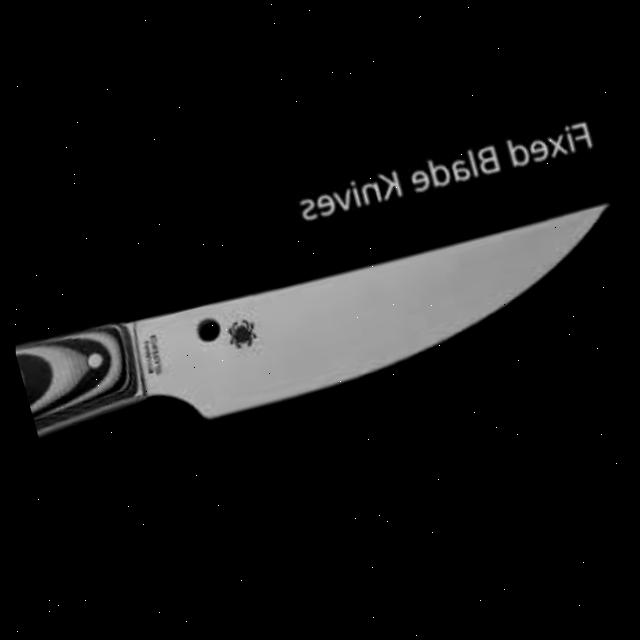Knife: (7, 194, 640, 462)
